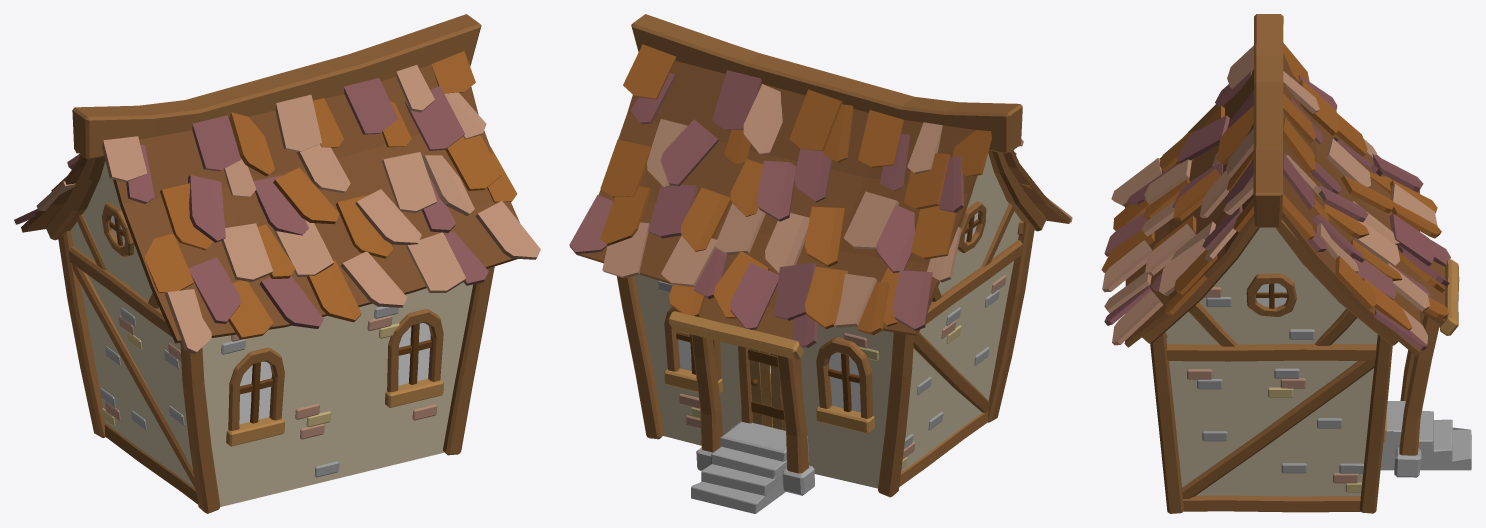
File: Petite Maison 3.fbx
The picture shows the model from 3 angles, left to right: view 1: azimuth 30°, elevation 25°; view 2: azimuth 150°, elevation 25°; view 3: azimuth 270°, elevation 25°; orthographic projection. The views are drawn at different scales.
Parts seen in each view (by area): view 1: Plane.028, Plan.113, Cube.987, Plane.030, Cube.974, Cube.975, Cube.963, Cube.992, Cube.1131, Cube.1133, Cube.1155, Cube.1148 (+45 smaller); view 2: Plan.112, Plane.027, Plane.030, Cube.987, Cube.1299, Cube.963, Cube.962, Cube.974, Cube.988, Cube.990, Cube.989, Plan.108 (+57 smaller); view 3: Plane.029, Cube.987, Plan.112, Plan.113, Cube.1299, Cube.985, Cube.991, Cube.975, Cube.962, Cube.984, Cube.989, Cube.993 (+55 smaller).
Part boxes in pixels (x1=…): Plane.028: x1=202, y1=282, x2=472, y2=506; Plan.113: x1=113, y1=65, x2=519, y2=343; Cube.987: x1=72, y1=14, x2=481, y2=159; Plane.030: x1=71, y1=161, x2=194, y2=488; Cube.974: x1=180, y1=342, x2=220, y2=513; Cube.975: x1=443, y1=266, x2=494, y2=455; Cube.963: x1=58, y1=230, x2=105, y2=437; Cube.992: x1=72, y1=263, x2=195, y2=489; Cube.1131: x1=382, y1=152, x2=436, y2=212; Cube.1133: x1=406, y1=232, x2=466, y2=292; Cube.1155: x1=221, y1=223, x2=273, y2=281; Cube.1148: x1=188, y1=257, x2=240, y2=323; Plan.112: x1=576, y1=61, x2=976, y2=339; Plane.027: x1=635, y1=274, x2=893, y2=488; Plane.030: x1=901, y1=153, x2=1020, y2=472; Cube.987: x1=631, y1=14, x2=1022, y2=154; Cube.1299: x1=691, y1=421, x2=808, y2=513; Cube.963: x1=878, y1=332, x2=914, y2=497; Cube.962: x1=616, y1=275, x2=664, y2=439; Cube.974: x1=988, y1=221, x2=1034, y2=422; Cube.988: x1=667, y1=311, x2=803, y2=359; Cube.990: x1=777, y1=355, x2=808, y2=473; Cube.989: x1=691, y1=334, x2=722, y2=452; Plan.108: x1=816, y1=337, x2=873, y2=418; Plane.029: x1=1165, y1=227, x2=1377, y2=496; Cube.987: x1=1253, y1=14, x2=1283, y2=227; Plan.112: x1=1282, y1=53, x2=1444, y2=356; Plan.113: x1=1124, y1=69, x2=1254, y2=347; Cube.1299: x1=1380, y1=401, x2=1471, y2=470; Cube.985: x1=1166, y1=344, x2=1376, y2=361; Cube.991: x1=1182, y1=360, x2=1374, y2=498; Cube.975: x1=1150, y1=332, x2=1183, y2=513; Cube.962: x1=1359, y1=335, x2=1392, y2=513; Cube.984: x1=1183, y1=495, x2=1360, y2=512; Cube.989: x1=1399, y1=315, x2=1439, y2=455; Cube.993: x1=1275, y1=219, x2=1398, y2=345.
Size of the model in its own units: 473 by 437 by 414.
